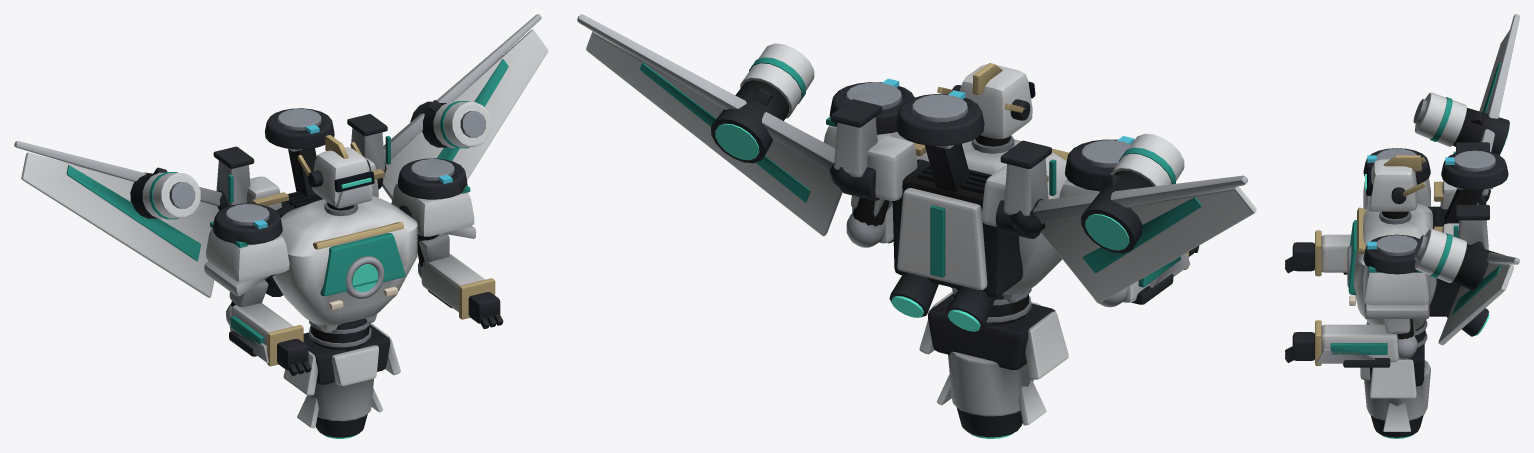
Rendered from ex_seraph_3.glb.
The picture shows the model from 3 angles, left to right: view 1: azimuth 30°, elevation 25°; view 2: azimuth 150°, elevation 25°; view 3: azimuth 270°, elevation 25°; orthographic projection. The views are drawn at different scales.
Visible parts, largest first — view 1: body, flap_4, flap_0; view 2: body, flap_0, flap_4; view 3: body, flap_0, flap_4.
Boxes of the visible parts, x1,y1,x2,y2 form: body: [204, 108, 503, 438]; flap_4: [14, 141, 228, 297]; flap_0: [382, 14, 548, 199]; body: [823, 63, 1199, 438]; flap_0: [577, 14, 857, 236]; flap_4: [1009, 133, 1256, 303]; body: [1285, 142, 1508, 438]; flap_0: [1413, 228, 1519, 345]; flap_4: [1413, 14, 1519, 201].
Bounding box in the file's own units: 7.07 × 3.95 × 2.85.
